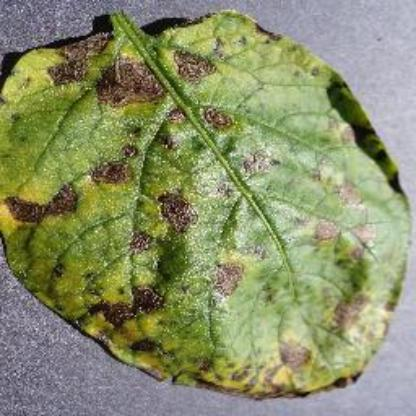Early-Blight: (0, 9, 412, 397)
